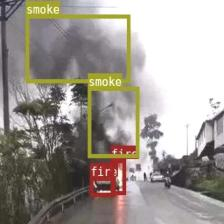fire: (89, 176, 115, 196), (111, 159, 125, 194)
smoke: (25, 15, 129, 82), (87, 87, 139, 157)
